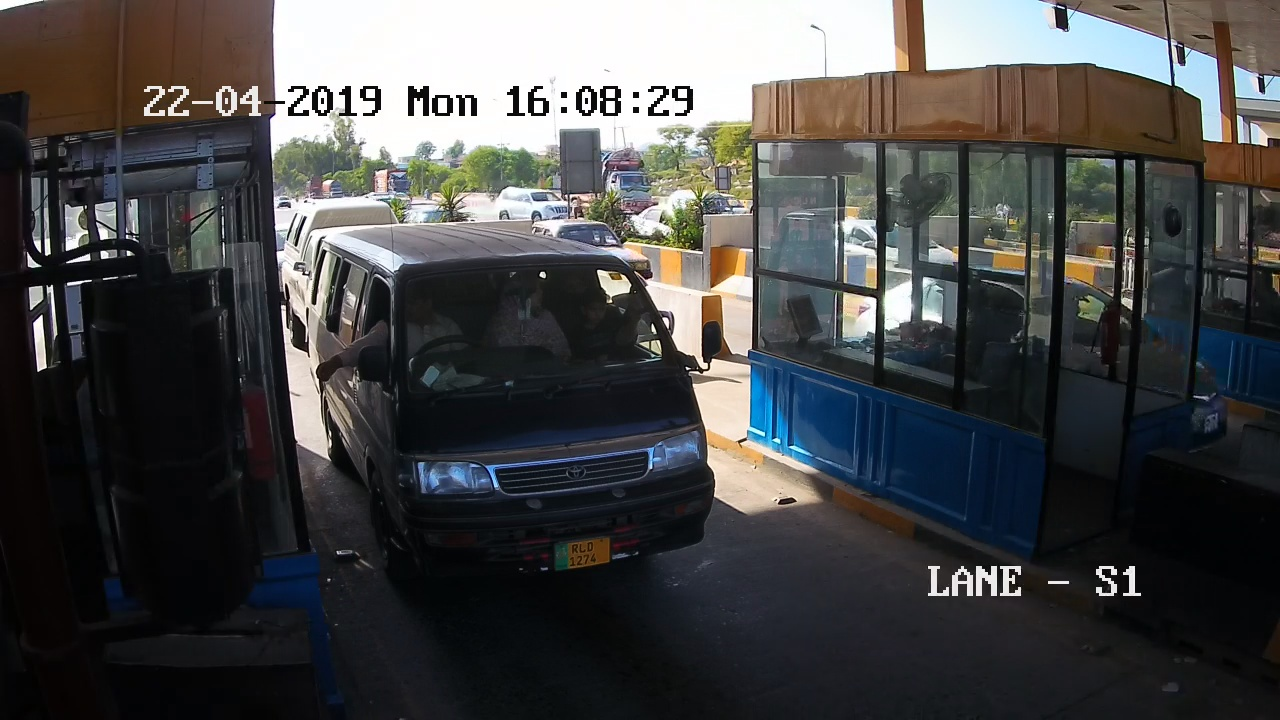Number Plate (Car): (550, 537, 611, 570)
